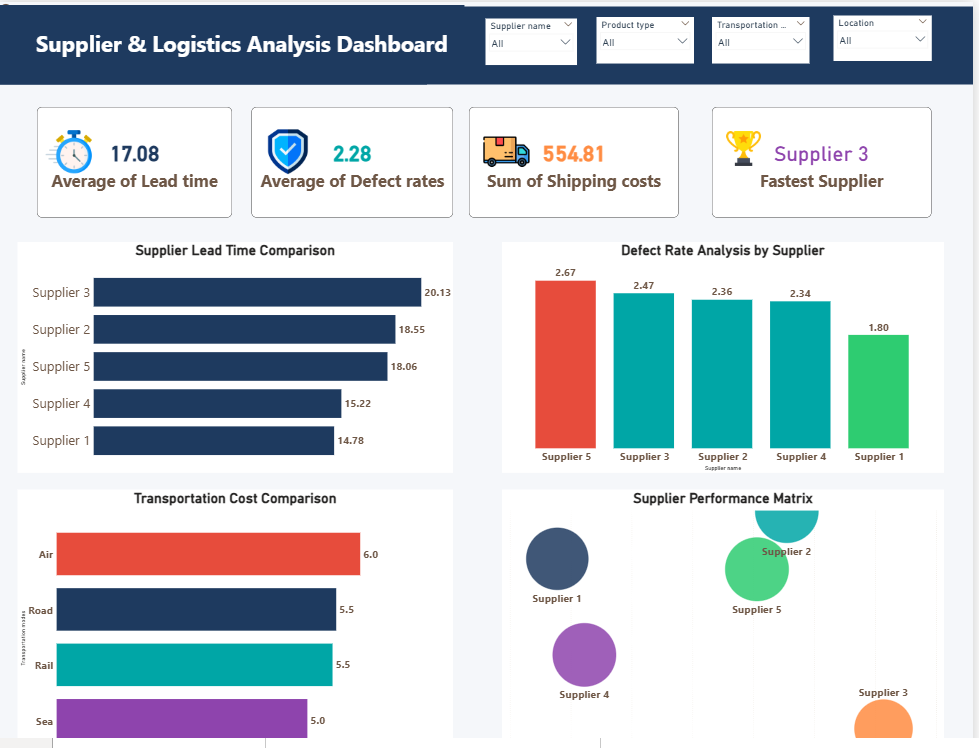

This screenshot's page, from the dashboard's own definition file:
{"tool":"powerbi","page":{"name":"Supplier & Logistics Analysis Dashboard","canvas":[2500,2000],"ordinal":2},"visuals":[{"type":"card","fields":{"Values":["Avg(supply_chain_data (1).Lead time)"]},"box":[100,270.8,500,283.3],"z":0},{"type":"card","fields":{"Values":["Avg(supply_chain_data (1).Defect rates)"]},"box":[650,270.8,516.7,283.3],"z":1000},{"type":"card","fields":{"Values":["Sum(supply_chain_data (1).Shipping costs)"]},"box":[1208.3,270.8,537.5,283.3],"z":2000},{"type":"card","fields":{"Values":["supply_chain_data (1).Fastest Supplier"]},"box":[1829.2,270.8,562.5,283.3],"z":3000},{"type":"barChart","title":"Supplier Lead Time Comparison","fields":{"Category":["supply_chain_data (1).Supplier name"],"Y":["Avg(supply_chain_data (1).Lead time)"]},"box":[50,616.7,1116.7,591.7],"z":4000},{"type":"columnChart","title":"Defect Rate Analysis by Supplier","fields":{"Category":["supply_chain_data (1).Supplier name"],"Y":["Avg(supply_chain_data (1).Defect rates)"]},"box":[1291.7,616.7,1133.3,591.7],"z":5000},{"type":"barChart","title":"Transportation Cost Comparison","fields":{"Category":["supply_chain_data (1).Transportation modes"],"Y":["Avg(supply_chain_data (1).Shipping costs)"]},"box":[50,1250,1116.7,712.5],"z":6000},{"type":"scatterChart","title":"Supplier Performance Matrix","fields":{"X":["Avg(supply_chain_data (1).Lead time)"],"Y":["Sum(supply_chain_data (1).Defect rates)"],"Series":["supply_chain_data (1).Supplier name"],"Size":["Avg(supply_chain_data (1).Shipping costs)"]},"box":[1291.7,1250,1133.3,712.5],"z":7000},{"type":"actionButton","box":[0,0,100,40],"z":8000},{"type":"shape","box":[0,10,2500,200],"z":9000},{"type":"textbox","box":[0,38.5,1100,173.1],"z":10000},{"type":"textbox","box":[0,8.3,1195.8,200],"z":11000},{"type":"slicer","fields":{"Values":["supply_chain_data (1).Supplier name"]},"box":[1250,42.3,234.6,119.2],"z":12000},{"type":"slicer","fields":{"Values":["supply_chain_data (1).Product type"]},"box":[1534.6,38.5,250,119.2],"z":13000},{"type":"slicer","fields":{"Values":["supply_chain_data (1).Transportation modes"]},"box":[1830.8,38.5,250,119.2],"z":14000},{"type":"slicer","fields":{"Values":["supply_chain_data (1).Location"]},"box":[2142.2,36,251.7,116.8],"z":15000},{"type":"image","box":[100,320.8,162.5,129.2],"z":16000},{"type":"image","box":[679.2,320.8,125,129.2],"z":17000},{"type":"image","box":[1208.3,320.8,191.7,129.2],"z":18000},{"type":"image","box":[1829.2,320.8,162.5,112.5],"z":19000}]}

Visuals, with their boxes on the page's 2500x2000 design canvas (x1, y1, x2, y2). These are canvas units, not pixel positions in the 979x748 screenshot, which may show the page scaled, cropped or inside an application window:
card - Avg(supply_chain_data (1).Lead time): [100, 271, 600, 554]
card - Avg(supply_chain_data (1).Defect rates): [650, 271, 1167, 554]
card - Sum(supply_chain_data (1).Shipping costs): [1208, 271, 1746, 554]
card - supply_chain_data (1).Fastest Supplier: [1829, 271, 2392, 554]
"Supplier Lead Time Comparison" barChart: [50, 617, 1167, 1208]
"Defect Rate Analysis by Supplier" columnChart: [1292, 617, 2425, 1208]
"Transportation Cost Comparison" barChart: [50, 1250, 1167, 1962]
"Supplier Performance Matrix" scatterChart: [1292, 1250, 2425, 1962]
actionButton: [0, 0, 100, 40]
shape: [0, 10, 2500, 210]
textbox: [0, 38, 1100, 212]
textbox: [0, 8, 1196, 208]
slicer - supply_chain_data (1).Supplier name: [1250, 42, 1485, 162]
slicer - supply_chain_data (1).Product type: [1535, 38, 1785, 158]
slicer - supply_chain_data (1).Transportation modes: [1831, 38, 2081, 158]
slicer - supply_chain_data (1).Location: [2142, 36, 2394, 153]
image: [100, 321, 262, 450]
image: [679, 321, 804, 450]
image: [1208, 321, 1400, 450]
image: [1829, 321, 1992, 433]
